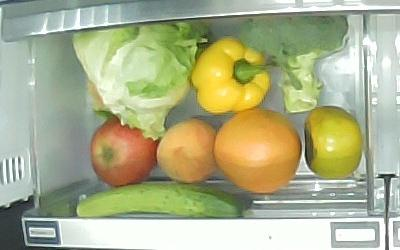apple: (90, 118, 157, 188)
broccoli: (238, 15, 349, 113)
cucumber: (76, 181, 243, 219)
grapefruit: (215, 109, 302, 194)
lettuce: (72, 22, 195, 113)
paprika: (191, 36, 272, 114)
peach: (157, 119, 218, 183)
persimmon: (304, 106, 363, 177)
